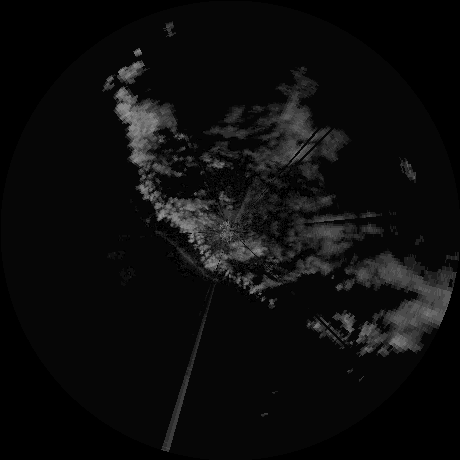frontgust: (160, 227, 214, 282)
